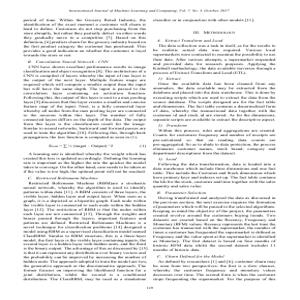text: (18, 17, 149, 284), (151, 17, 280, 284)
